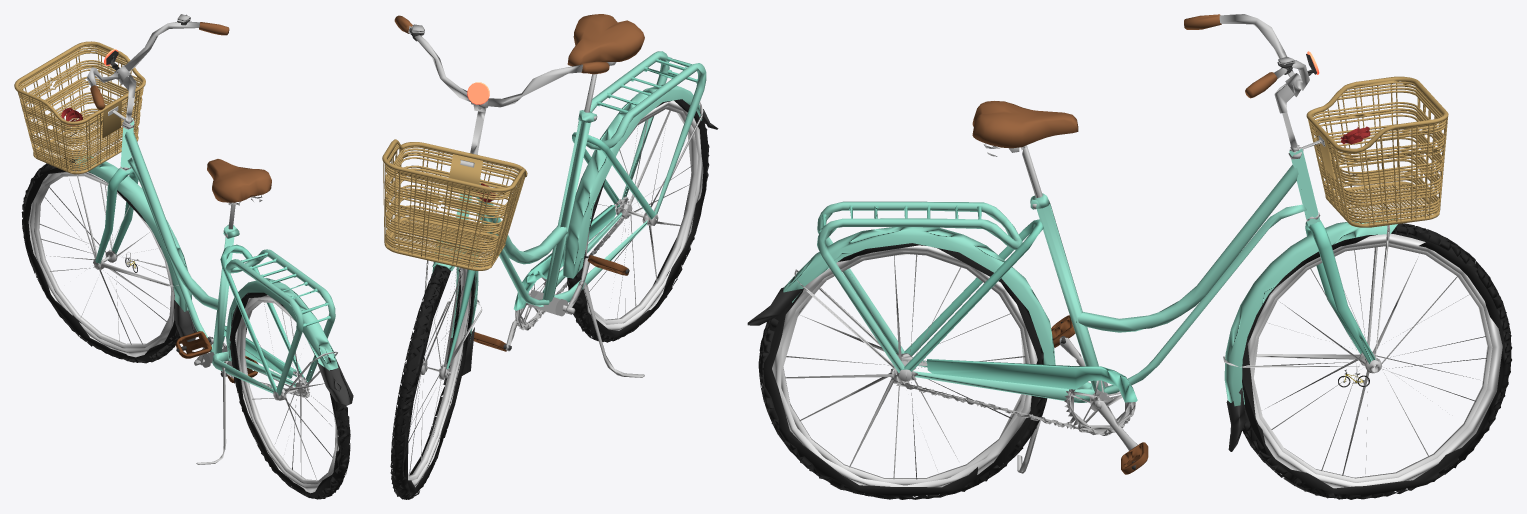
Rendered from fietsen.glb.
The picture shows the model from 3 angles, left to right: view 1: azimuth 30°, elevation 25°; view 2: azimuth 150°, elevation 25°; view 3: azimuth 270°, elevation 25°; orthographic projection. The views are drawn at different scales.
Parts seen in each view (by area): view 1: polySurface811_phong4_0, polySurface1533_lambert10_0, polySurface1512_lambert5_0, polySurface1322_phong8_0, pCylinder56_phong5_0, polySurface841_lambert1_0, polySurface843_phong3_0, polySurface1348_lambert6_0, polySurface1343_phong2_0, polySurface1542_lambert9_0, polySurface1543_phong7_0, polySurface1537_lambert8_0; view 2: polySurface1533_lambert10_0, polySurface811_phong4_0, polySurface1512_lambert5_0, pCylinder56_phong5_0, polySurface1322_phong8_0, polySurface1348_lambert6_0, polySurface841_lambert1_0, polySurface843_phong3_0, polySurface1343_phong2_0, polySurface1543_phong7_0, polySurface1537_lambert8_0, polySurface1542_lambert9_0 (+1 smaller); view 3: polySurface811_phong4_0, polySurface1512_lambert5_0, polySurface1533_lambert10_0, polySurface843_phong3_0, polySurface1322_phong8_0, polySurface841_lambert1_0, pCylinder56_phong5_0, polySurface1343_phong2_0, polySurface1348_lambert6_0, polySurface1543_phong7_0, polySurface1542_lambert9_0, polySurface1537_lambert8_0.
Part boxes in pixels (box(x1,y1,x2,y2)): polySurface811_phong4_0: box(75, 119, 338, 395); polySurface1533_lambert10_0: box(14, 41, 145, 174); polySurface1512_lambert5_0: box(21, 157, 350, 499); polySurface1322_phong8_0: box(95, 168, 331, 391); pCylinder56_phong5_0: box(75, 21, 337, 464); polySurface841_lambert1_0: box(34, 174, 336, 484); polySurface843_phong3_0: box(28, 170, 338, 493); polySurface1348_lambert6_0: box(90, 22, 271, 202); polySurface1343_phong2_0: box(39, 179, 333, 480); polySurface1542_lambert9_0: box(106, 14, 353, 405); polySurface1543_phong7_0: box(93, 14, 309, 397); polySurface1537_lambert8_0: box(175, 331, 257, 382); polySurface1533_lambert10_0: box(382, 139, 527, 270); polySurface811_phong4_0: box(432, 51, 706, 339); polySurface1512_lambert5_0: box(390, 99, 709, 499); pCylinder56_phong5_0: box(408, 26, 703, 378); polySurface1322_phong8_0: box(432, 57, 697, 368); polySurface1348_lambert6_0: box(394, 14, 644, 74); polySurface841_lambert1_0: box(408, 106, 698, 480); polySurface843_phong3_0: box(408, 100, 703, 487); polySurface1343_phong2_0: box(408, 119, 692, 475); polySurface1543_phong7_0: box(411, 24, 628, 379); polySurface1537_lambert8_0: box(473, 255, 629, 351); polySurface1542_lambert9_0: box(409, 27, 718, 375); polySurface811_phong4_0: box(783, 148, 1397, 406); polySurface1512_lambert5_0: box(758, 223, 1512, 499); polySurface1533_lambert10_0: box(1306, 76, 1448, 227); polySurface843_phong3_0: box(772, 233, 1502, 488); polySurface1322_phong8_0: box(819, 205, 1375, 402); polySurface841_lambert1_0: box(781, 243, 1492, 485); pCylinder56_phong5_0: box(794, 14, 1389, 473); polySurface1343_phong2_0: box(785, 250, 1486, 479); polySurface1348_lambert6_0: box(972, 14, 1277, 148); polySurface1543_phong7_0: box(890, 56, 1381, 435); polySurface1542_lambert9_0: box(747, 54, 1316, 469); polySurface1537_lambert8_0: box(1051, 315, 1148, 474).
Bounding box in the file's own units: 13.02 × 28.18 × 42.36.
Materials: 42 (5 with a texture image).
